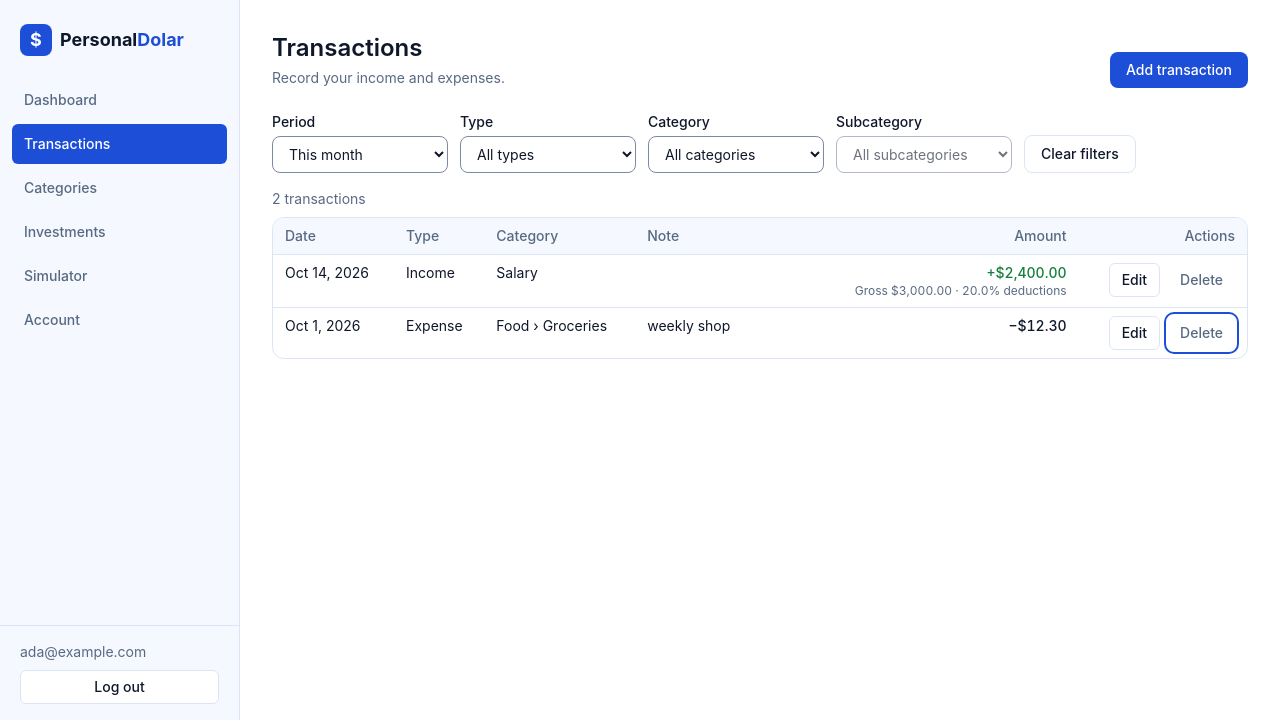
Test: Delete transaction › closes on a 404, shows "Transaction not found" and refetches
Expected: the table named "Transactions" is shown, [273,218,1247,358]
Click the button with aria-label "Delete Food › Groceries, Oct 1, 2026, −$12.30". click: (1202, 333)
box: [1168,316,1235,350]
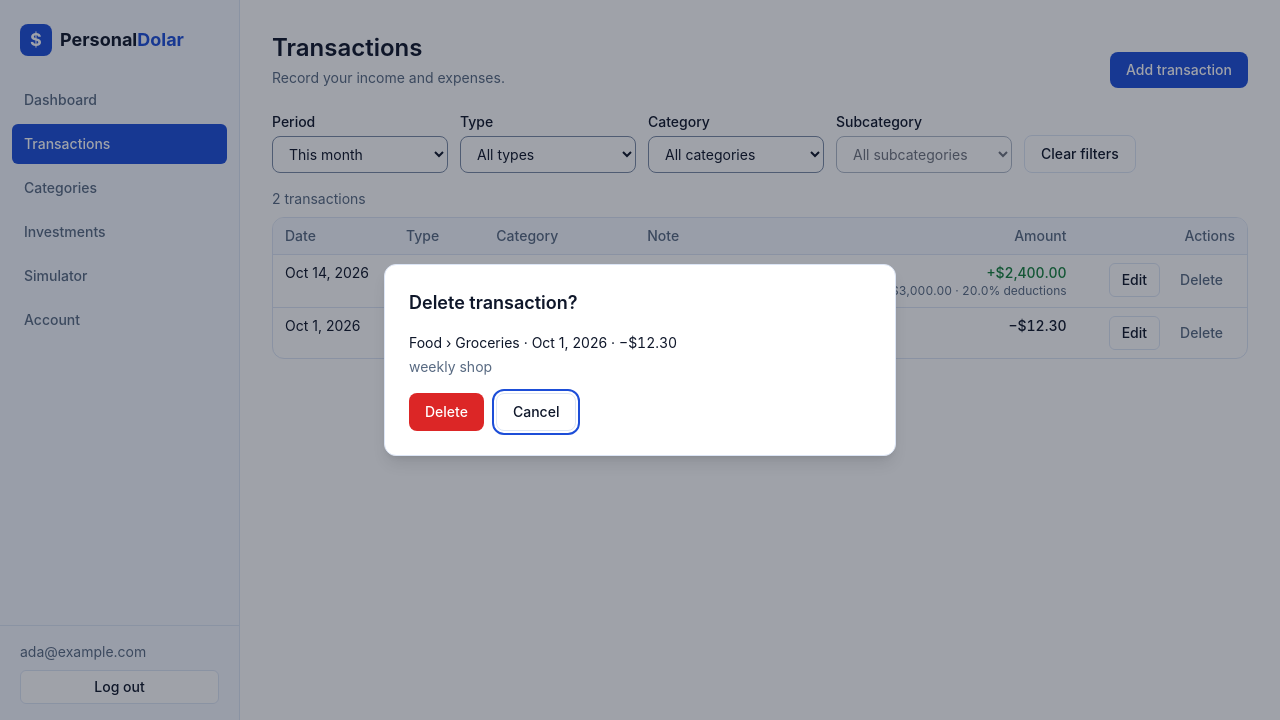
Click the button "Delete". click: (446, 412)
box: [409,393,484,431]
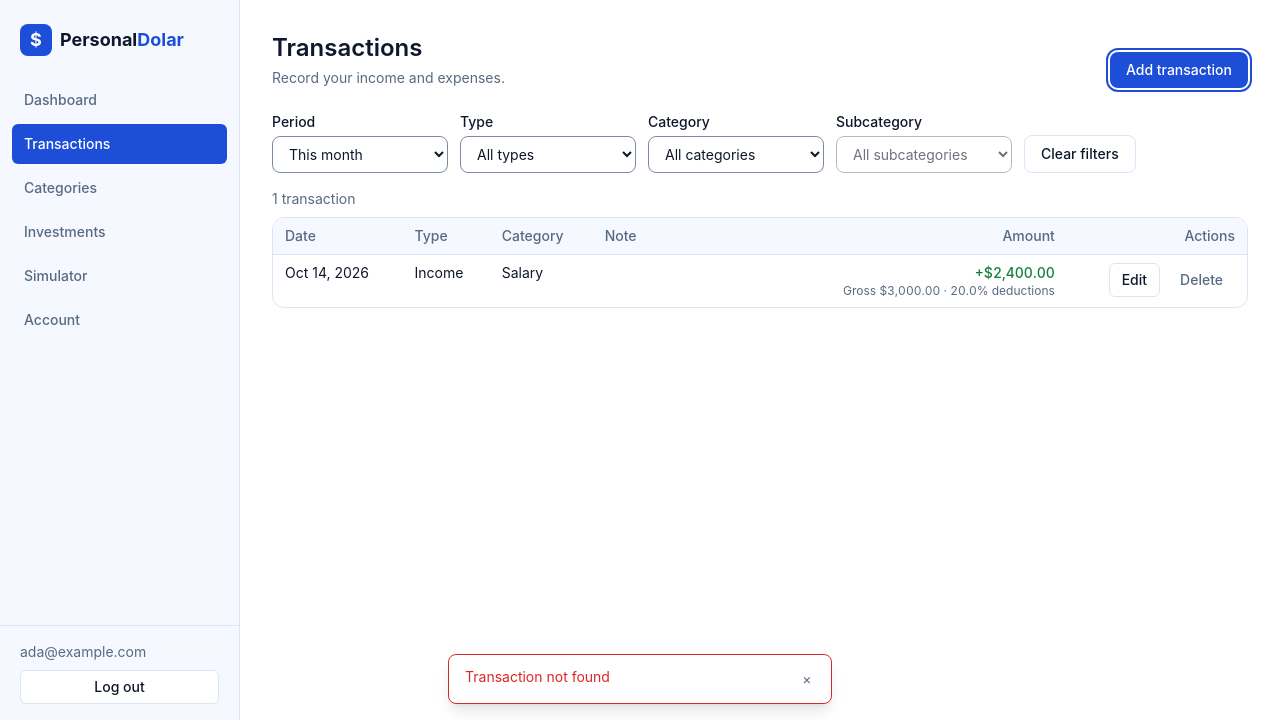
Now the message shows "Transaction not found", box [465,668,610,685]
Now the dialog is gone
